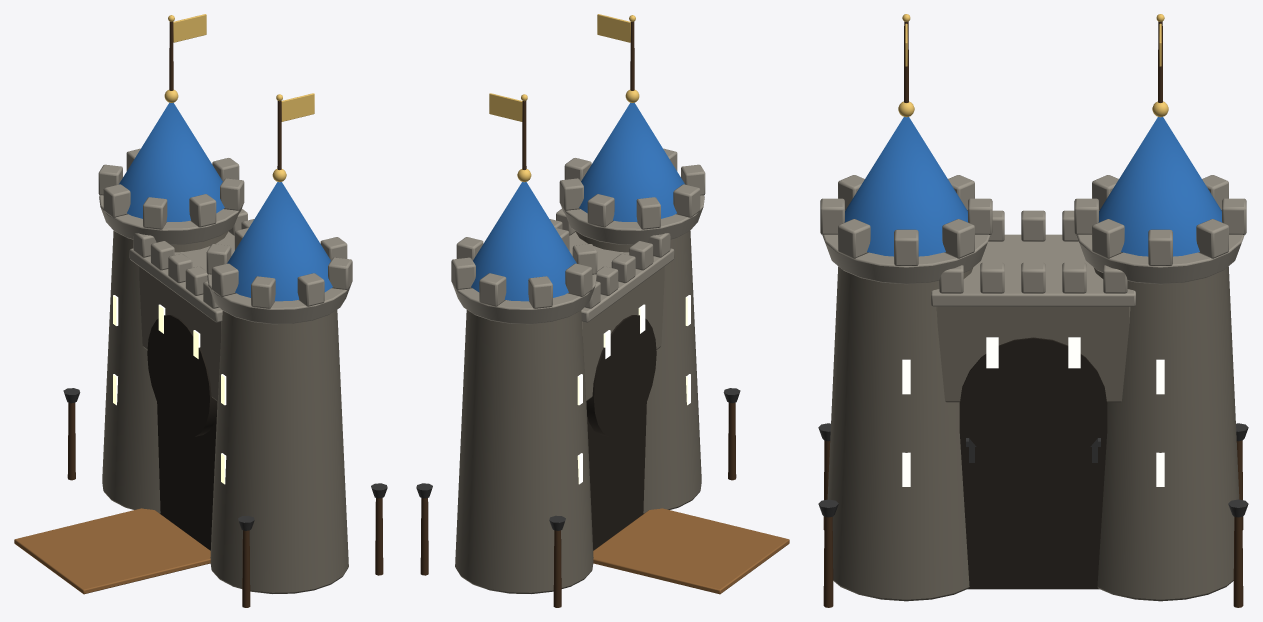
The model's file is gatehouse.glb.
3 views of the same model, side by side, from view 1: azimuth 30°, elevation 25°; view 2: azimuth 150°, elevation 25°; view 3: azimuth 270°, elevation 25° (orthographic). The views are drawn at different scales.
Visible parts, largest first — view 1: gatehouse; view 2: gatehouse; view 3: gatehouse.
Part boxes in pixels (box(x1,y1,x2,y2)): gatehouse: box(14, 14, 387, 607); gatehouse: box(416, 14, 789, 607); gatehouse: box(818, 14, 1248, 607).
Size of the model in its own units: 1.66 by 2.98 by 2.1.
